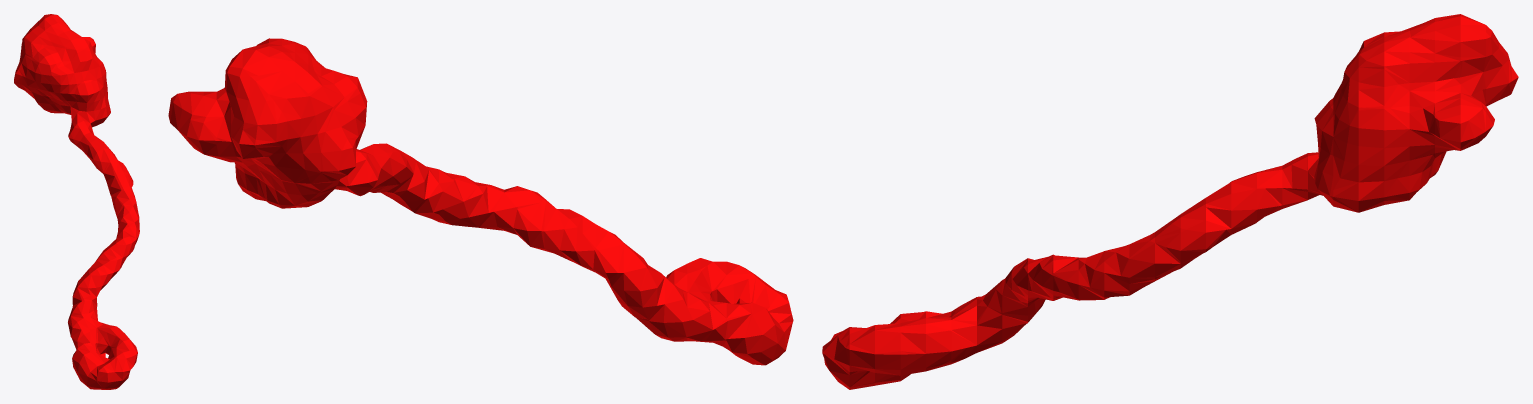
File: tolR_coarse.dae
The picture shows the model from 3 angles, left to right: view 1: azimuth 30°, elevation 25°; view 2: azimuth 150°, elevation 25°; view 3: azimuth 270°, elevation 25°; orthographic projection. The views are drawn at different scales.
Parts seen in each view (by area): view 1: tolR; view 2: tolR; view 3: tolR.
Boxes of the visible parts, <box> form: tolR: <box>14,14,139,389</box>; tolR: <box>168,38,793,365</box>; tolR: <box>822,14,1518,389</box>.
Size of the model in its own units: 68.97 by 97.86 by 133.
